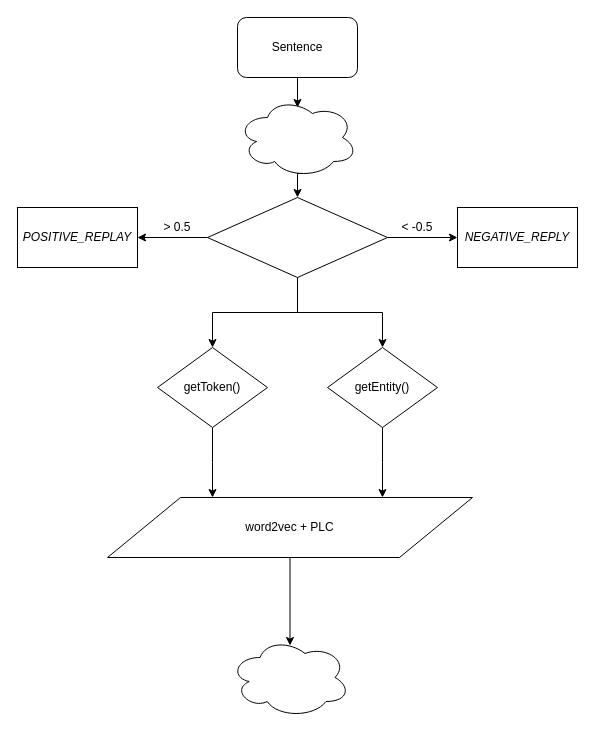
Image size: 595x735. Some labels were removed from this diagram. The box of each missing label's shape, as (x1, y1, x2, y2) in pixels:
Dialogflow: (229, 636, 350, 718)
getDocumentSentiment(): (206, 196, 388, 278)
Google natural language API: (236, 96, 358, 178)
